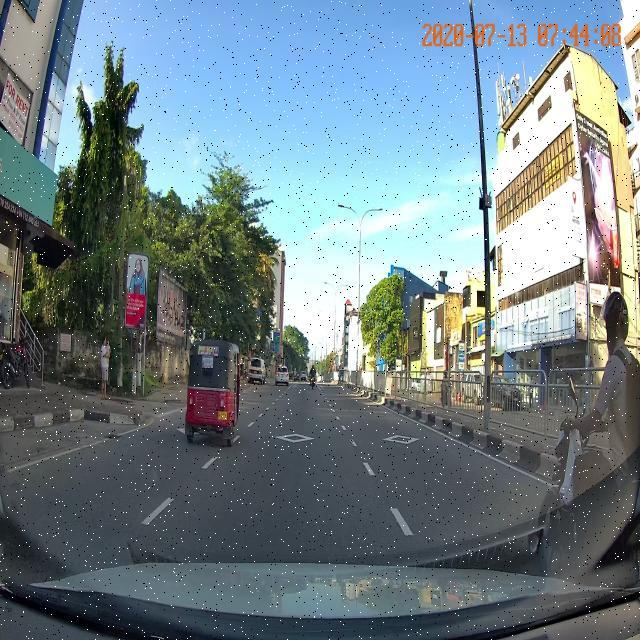diamond: (231, 432, 360, 446)
